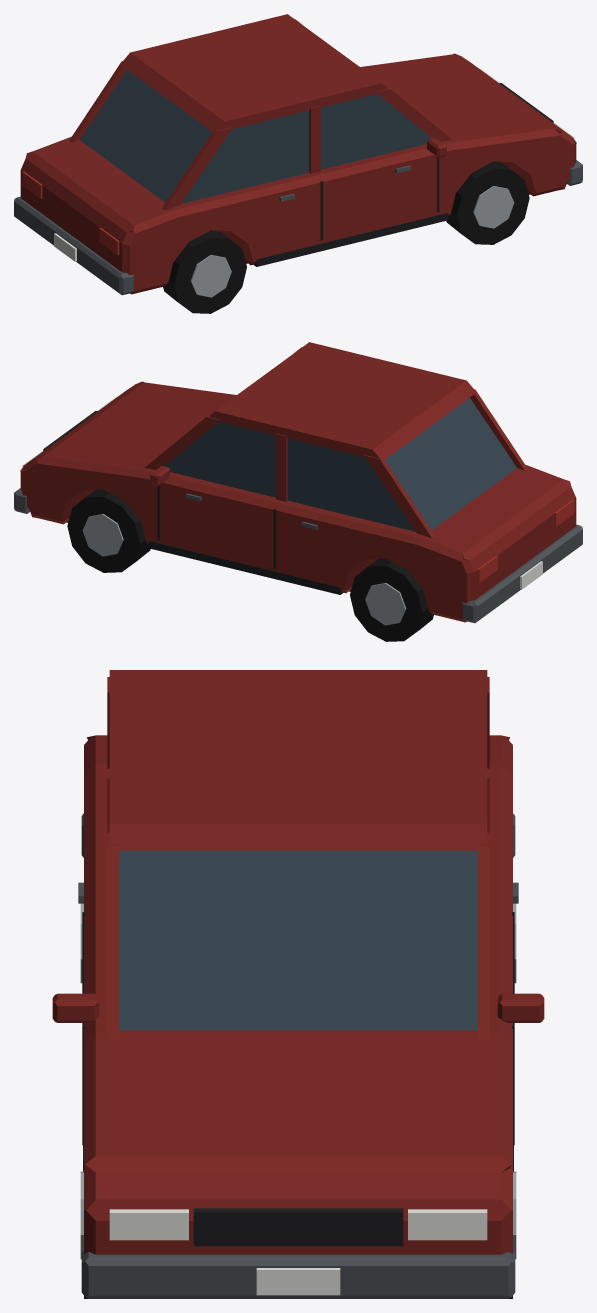
The model's file is voiture.glb.
3 renders of one model, top to bottom at view 1: azimuth 30°, elevation 25°; view 2: azimuth 150°, elevation 25°; view 3: azimuth 270°, elevation 25°, orthographic. The views are drawn at different scales.
Visible parts, largest first — view 1: body, glass, roof, wheels_l, hubs_l, bumper_r, sill, pillar_c, pillar_a, pillar_c2, pillar_b, seams_l; view 2: body, glass, roof, wheels_r, hubs_r, bumper_r, sill, pillar_c2, pillar_a2, pillar_c, pillar_b2, seams_r; view 3: body, roof, glass, bumper_f, grille, head_l, head_r, plates, pillar_a, pillar_a2, mirror_l, mirror_r.
Part boxes in pixels (<box>): body: <box>20,53,576,294</box>; glass: <box>80,70,431,203</box>; roof: <box>120,14,387,133</box>; wheels_l: <box>163,161,529,313</box>; hubs_l: <box>190,186,514,297</box>; bumper_r: <box>14,196,133,295</box>; sill: <box>253,213,448,266</box>; pillar_c: <box>162,127,232,210</box>; pillar_a: <box>376,87,452,141</box>; pillar_c2: <box>69,61,126,142</box>; pillar_b: <box>309,105,320,173</box>; seams_l: <box>320,157,439,240</box>; body: <box>20,381,576,622</box>; glass: <box>165,398,516,531</box>; roof: <box>209,342,476,461</box>; wheels_r: <box>67,489,433,641</box>; hubs_r: <box>82,514,406,625</box>; bumper_r: <box>463,524,582,623</box>; sill: <box>148,541,343,594</box>; pillar_c2: <box>364,455,434,538</box>; pillar_a2: <box>144,415,220,469</box>; pillar_c: <box>470,389,527,470</box>; pillar_b2: <box>276,433,287,501</box>; seams_r: <box>157,485,276,568</box>; body: <box>84,735,512,1254</box>; roof: <box>109,670,487,850</box>; glass: <box>119,850,477,1030</box>; bumper_f: <box>81,1251,515,1298</box>; grille: <box>193,1208,403,1246</box>; head_l: <box>109,1209,188,1240</box>; head_r: <box>408,1209,487,1240</box>; plates: <box>256,1268,340,1295</box>; pillar_a: <box>107,832,118,1038</box>; pillar_a2: <box>478,832,489,1038</box>; mirror_l: <box>52,993,99,1022</box>; mirror_r: <box>497,993,544,1022</box>.
Bounding box in the file's own units: 4.64 × 1.73 × 2.11.
8 materials, 8 textured.
